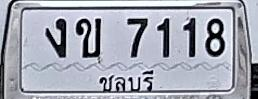1: (156, 18, 170, 58), (182, 17, 196, 57)
7: (127, 18, 148, 58)
8: (205, 18, 225, 56)
A02: (75, 17, 101, 58)
A07: (45, 18, 66, 58)
CBI: (97, 69, 157, 96)
